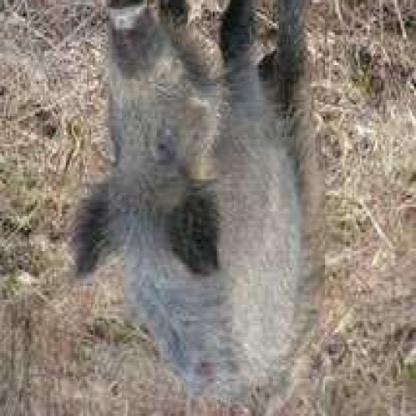boar: (51, 16, 381, 402)
